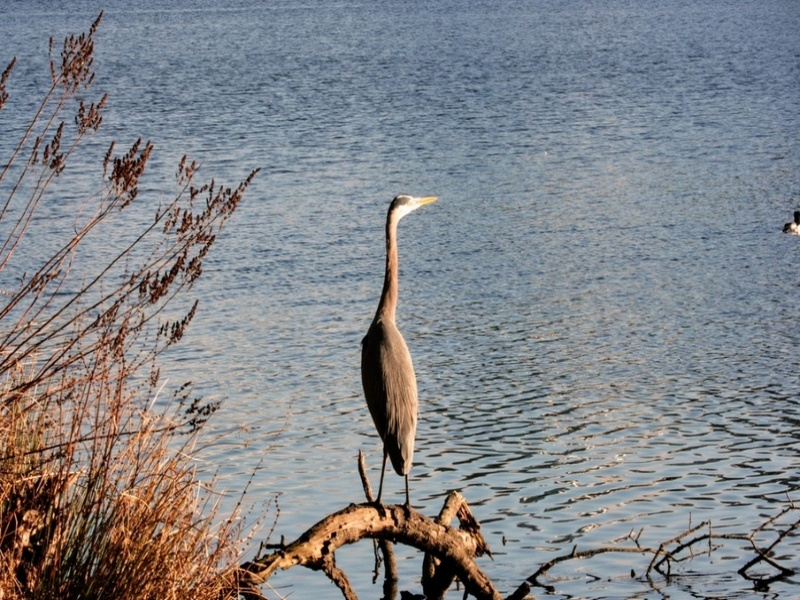heron: (355, 182, 442, 526)
